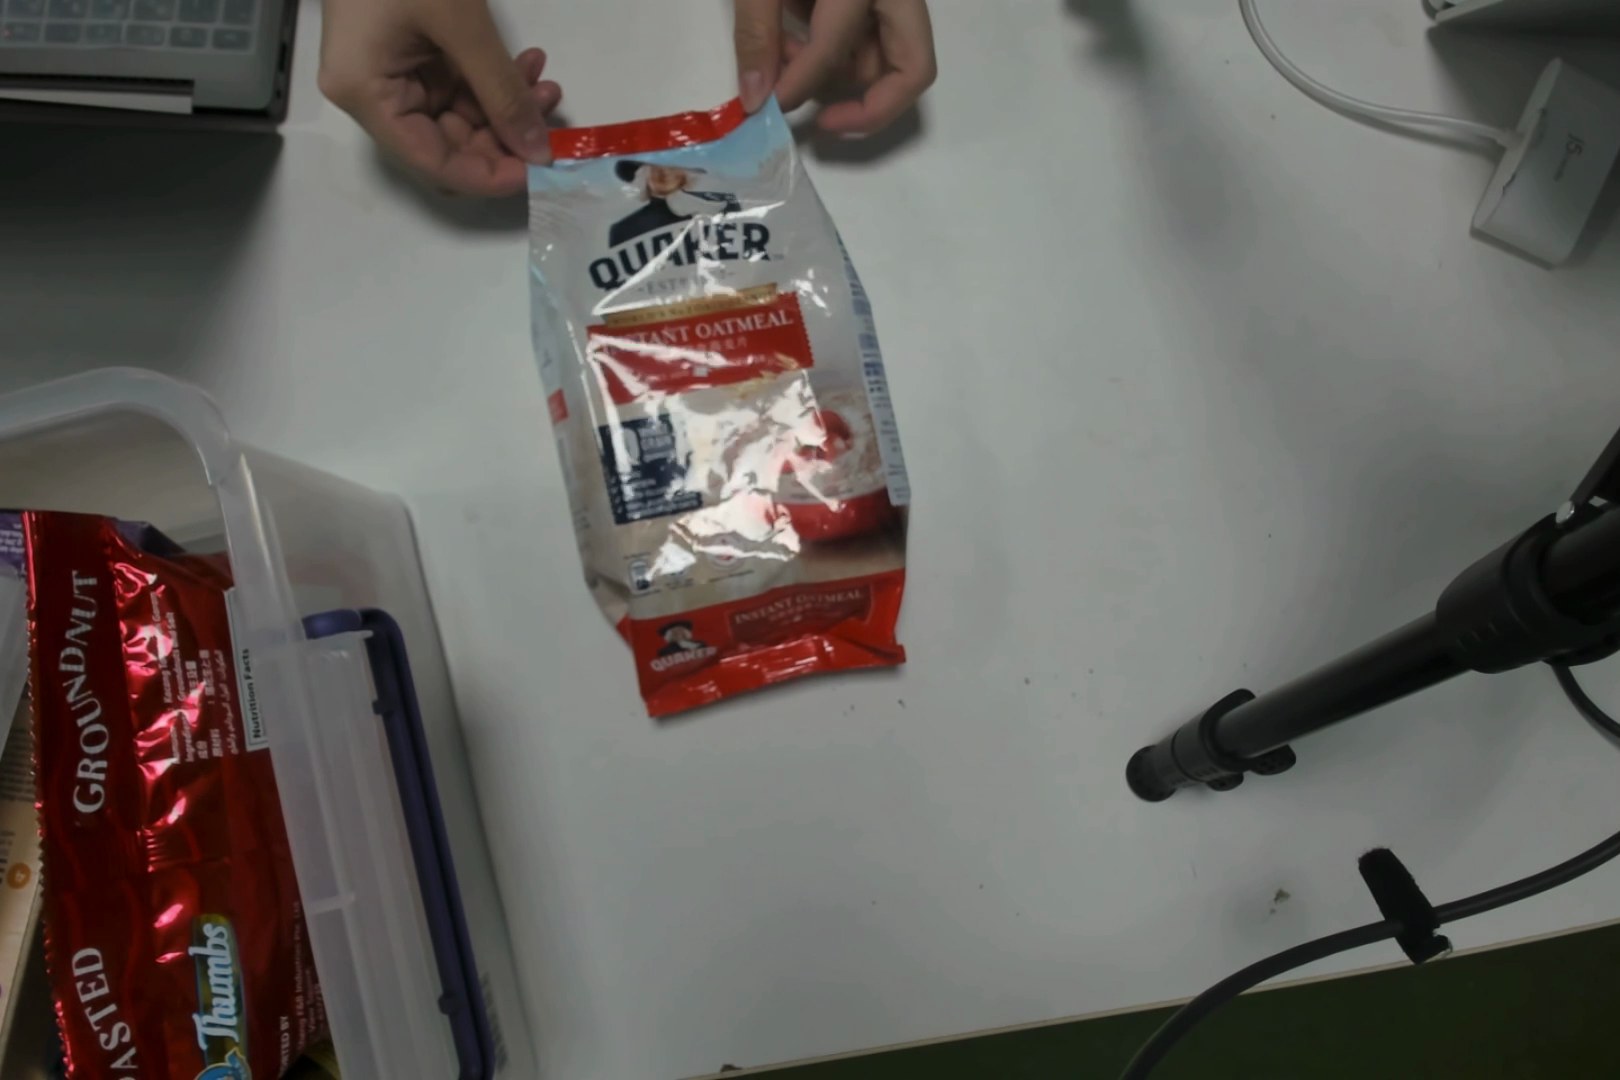RolledOatsInstantOatmeal_400-499g_Halal_Healthy: (540, 129, 925, 704)
